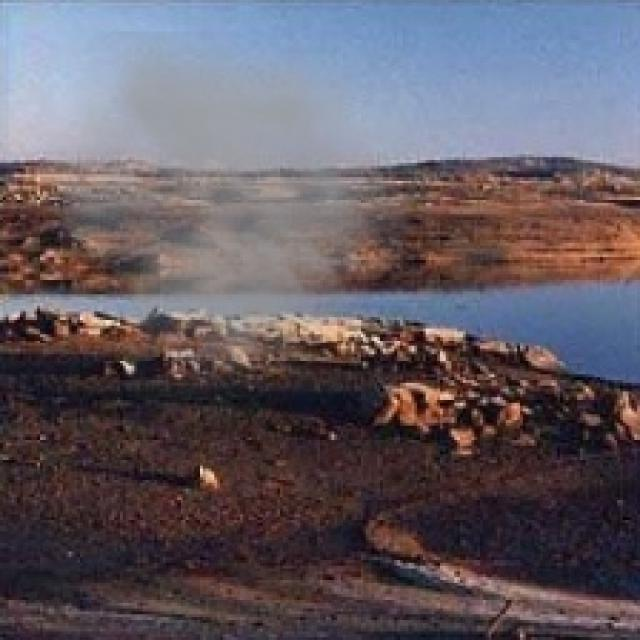smoke: (23, 32, 428, 414)
